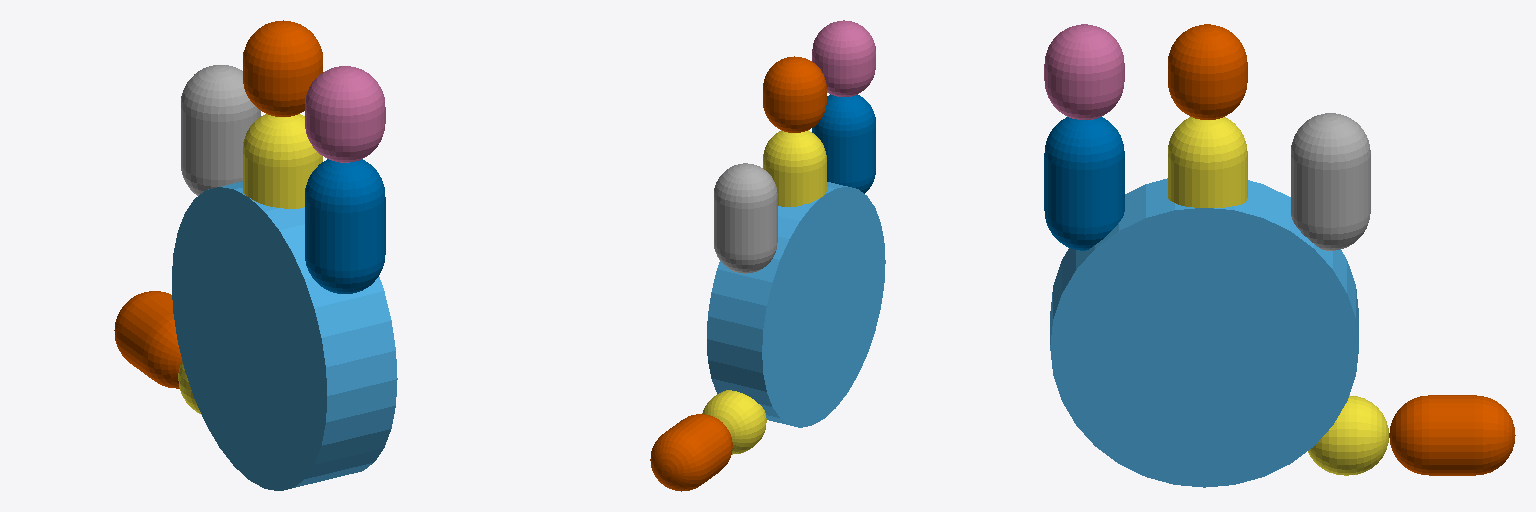
URDF robot description (DexterousHand):
<?xml version="1.0"?>
<robot name="DexterousHand">


    <link name="world"/>
    <joint name="world_to_palm" type="fixed">
        <parent link="world"/>
        <child link="palm"/>
        <origin xyz="0 0 0" rpy="0 0 0"/>
    </joint>
    <link name="palm">
        <inertial>
            <origin xyz="0 0 0.057" rpy="0 0 0"/>
            <mass value="0.30212892864"/>
            <inertia ixx="0.00049080844457568" ixy="0.0" ixz="0.0" iyy="0.00026746366246427523" iyz="0.0" izz="0.00026746366246427523"/>
        </inertial>
        <visual>
            <origin xyz="0 0 0.057" rpy="1.5708 0 1.5708"/>
            <geometry>
                <cylinder radius="0.057" length="0.0296"/>
            </geometry>
            <material name="default"/>
        </visual>
        <collision>
            <origin xyz="0 0 0.057" rpy="1.5708 0 1.5708"/>
            <geometry>
                <cylinder radius="0.057" length="0.0296"/>
            </geometry>
        </collision>
    </link>

    
    <joint name="thumb_joint1" type="revolute">
        <parent link="palm"/>
        <child link="thumb_base"/>
        <origin xyz="0.0029 0.0368 0.0157" rpy="-1.5708 -1.5708 0.0"/>
        <axis xyz="-1 0 0"/>
        <limit lower="-0.349" upper="2.094" effort="1.0" velocity="1.0"/>
    </joint>

    <link name="thumb_base"></link>

    <joint name="thumb_joint2" type="revolute">
        <parent link="thumb_base"/>
        <child link="thumb_proximal"/>
        <origin xyz="0.0 0.0 0.0" rpy="0.0 0.0 0.0"/>
        <axis xyz="0 0 1"/>
        <limit lower="-0.47" upper="2.443" effort="1.0" velocity="1.0"/>
    </joint>

    <link name="thumb_proximal">
        <inertial>
            <origin xyz="0 0 0.01565" rpy="0 0 0"/>
            <mass value="0.021538658803200002"/>
            <inertia ixx="2.9378910096388167e-06" ixy="0.0" ixz="0.0" 
            iyy="2.9378910096388167e-06" iyz="0.0" izz="2.358913912126464e-06"/>
        </inertial>
        <visual>
            <origin xyz="0 0 0.01565" rpy="0 0 0"/>
            <geometry>
                <cylinder radius="0.0148" length="0.0017000000000000001"/>
            </geometry>
            <material name="default"/>
        </visual>
        <visual>
            <origin xyz="0 0 0.0148" rpy="0 0 0"/>
            <geometry>
                <sphere radius="0.0148"/>
            </geometry>
            <material name="default"/>
        </visual>
        <visual>
            <origin xyz="0 0 0.0165" rpy="0 0 0"/>
            <geometry>
                <sphere radius="0.0148"/>
            </geometry>
            <material name="default"/>
        </visual>
        <collision>
            <origin xyz="0 0 0.01565" rpy="0 0 0"/>
            <geometry>
                <cylinder radius="0.0148" length="0.0017000000000000001"/>
            </geometry>
        </collision>
        <collision>
            <origin xyz="0 0 0.0148" rpy="0 0 0"/>
            <geometry>
                <sphere radius="0.0148"/>
            </geometry>
        </collision>
        <collision>
            <origin xyz="0 0 0.0165" rpy="0 0 0"/>
            <geometry>
                <sphere radius="0.0148"/>
            </geometry>
        </collision>
    </link>

    <joint name="thumb_joint3" type="revolute">
        <parent link="thumb_proximal"/>
        <child link="thumb_knuckle"/>
        <origin xyz="0.0 0.0 0.0313" rpy="0.0 0.0 0.0"/>
        <axis xyz="1 0 0"/>
        <limit lower="0.0" upper="0.0" effort="1.0" velocity="1.0"/>
    </joint>

    <link name="thumb_knuckle"></link>

    <joint name="thumb_joint4" type="revolute">
        <parent link="thumb_knuckle"/>
        <child link="thumb_middle"/>
        <origin xyz="0 0 0" rpy="0 0 0"/> 
        <axis xyz="0 1 0"/>
        <limit lower="-1.2" upper="1.9" effort="1.0" velocity="1.0"/>
    </joint>

    <link name="thumb_middle">
        <inertial>
            <origin xyz="0 0 0.0233" rpy="0 0 0"/>
            <mass value="0.032067140582400004"/>
            <inertia ixx="7.5589732685519385e-06" ixy="0.0" ixz="0.0" 
            iyy="7.5589732685519385e-06" iyz="0.0" izz="3.5119932365844485e-06"/>
        </inertial>
        <visual>
            <origin xyz="0 0 0.0233" rpy="0 0 0"/>
            <geometry>
                <cylinder radius="0.0148" length="0.017"/>
            </geometry>
            <material name="default"/>
        </visual>
        <visual>
            <origin xyz="0 0 0.0148" rpy="0 0 0"/>
            <geometry>
                <sphere radius="0.0148"/>
            </geometry>
            <material name="default"/>
        </visual>
        <visual>
            <origin xyz="0 0 0.0318" rpy="0 0 0"/>
            <geometry>
                <sphere radius="0.0148"/>
            </geometry>
            <material name="default"/>
        </visual>
        <collision>
            <origin xyz="0 0 0.0233" rpy="0 0 0"/>
            <geometry>
                <cylinder radius="0.0148" length="0.017"/>
            </geometry>
        </collision>
        <collision>
            <origin xyz="0 0 0.0148" rpy="0 0 0"/>
            <geometry>
                <sphere radius="0.0148"/>
            </geometry>
        </collision>
        <collision>
            <origin xyz="0 0 0.0318" rpy="0 0 0"/>
            <geometry>
                <sphere radius="0.0148"/>
            </geometry>
        </collision>
    </link>

    <joint name="thumb_joint5" type="revolute">
        <parent link="thumb_middle"/>
        <child link="thumb_distal"/>
        <origin xyz="0 0 0.0466" rpy="0 0 0"/> 
        <axis xyz="0 1 0"/>
        <limit lower="0.0" upper="0.0" effort="1.0" velocity="1.0"/>
    </joint>

    <link name="thumb_distal">
    </link>

    
    <joint name="index_joint1" type="revolute">
        <parent link="palm"/>
        <child link="index_proximal"/>
        <origin xyz="0.0 0.0465 0.091" rpy="0.0 0.0 0.0"/>
        <axis xyz="0 1 0"/>
        <limit lower="-0.314" upper="2.23" effort="1.0" velocity="1.0"/>
    </joint>

    <link name="index_proximal">
        <inertial>
            <origin xyz="0 0 0.02655" rpy="0 0 0"/>
            <mass value="0.036540024998400006"/>
            <inertia ixx="1.058665009272394e-05" ixy="0.0" ixz="0.0" 
            iyy="1.058665009272394e-05" iyz="0.0" izz="4.001863537824769e-06"/>
        </inertial>
        <visual>
            <origin xyz="0 0 0.02655" rpy="0 0 0"/>
            <geometry>
                <cylinder radius="0.0148" length="0.0235"/>
            </geometry>
            <material name="default"/>
        </visual>
        <visual>
            <origin xyz="0 0 0.0148" rpy="0 0 0"/>
            <geometry>
                <sphere radius="0.0148"/>
            </geometry>
            <material name="default"/>
        </visual>
        <visual>
            <origin xyz="0 0 0.0383" rpy="0 0 0"/>
            <geometry>
                <sphere radius="0.0148"/>
            </geometry>
            <material name="default"/>
        </visual>
        <collision>
            <origin xyz="0 0 0.02655" rpy="0 0 0"/>
            <geometry>
                <cylinder radius="0.0148" length="0.0235"/>
            </geometry>
        </collision>
        <collision>
            <origin xyz="0 0 0.0148" rpy="0 0 0"/>
            <geometry>
                <sphere radius="0.0148"/>
            </geometry>
        </collision>
        <collision>
            <origin xyz="0 0 0.0383" rpy="0 0 0"/>
            <geometry>
                <sphere radius="0.0148"/>
            </geometry>
        </collision>
    </link>

    <joint name="index_joint2" type="revolute">
        <parent link="index_proximal"/>
        <child link="index_dummy"/>
        <origin xyz="0.0 0.0 0.038" rpy="0.0 0.0 0.0"/>
        <axis xyz="0 1 0"/>
        <limit lower="0.0" upper="0.0" effort="1.0" velocity="1.0"/>
    </joint>

    <link name="index_dummy"></link>

    <joint name="index_joint3" type="revolute">
        <parent link="index_dummy"/>
        <child link="index_middle"/>
        <origin xyz="0 0 0.015100000000000002" rpy="0 0 0"/>
        <axis xyz="0 1 0"/>
        <limit lower="0.0" upper="0.0" effort="1.0" velocity="1.0"/>
    </joint>

    <link name="index_middle">
    </link>

    <joint name="index_joint4" type="revolute">
        <parent link="index_middle"/>
        <child link="index_distal"/>
        <origin xyz="0 0 0" rpy="0 0 0"/> 
        <axis xyz="0 1 0"/>
        <limit lower="0.0" upper="0.0" effort="1.0" velocity="1.0"/>
    </joint>

    <link name="index_distal">
    </link>

    
    <joint name="middle_joint1" type="revolute">
        <parent link="palm"/>
        <child link="middle_proximal"/>
        <origin xyz="0.0 0.0011 0.091" rpy="0.0 0.0 0.0"/>
        <axis xyz="0 1 0"/>
        <limit lower="-0.314" upper="2.23" effort="1.0" velocity="1.0"/>
    </joint>

    <link name="middle_proximal">
        <inertial>
            <origin xyz="0 0 0.02655" rpy="0 0 0"/>
            <mass value="0.036540024998400006"/>
            <inertia ixx="1.058665009272394e-05" ixy="0.0" ixz="0.0" 
            iyy="1.058665009272394e-05" iyz="0.0" izz="4.001863537824769e-06"/>
        </inertial>
        <visual>
            <origin xyz="0 0 0.02655" rpy="0 0 0"/>
            <geometry>
                <cylinder radius="0.0148" length="0.0235"/>
            </geometry>
            <material name="default"/>
        </visual>
        <visual>
            <origin xyz="0 0 0.0148" rpy="0 0 0"/>
            <geometry>
                <sphere radius="0.0148"/>
            </geometry>
            <material name="default"/>
        </visual>
        <visual>
            <origin xyz="0 0 0.0383" rpy="0 0 0"/>
            <geometry>
                <sphere radius="0.0148"/>
            </geometry>
            <material name="default"/>
        </visual>
        <collision>
            <origin xyz="0 0 0.02655" rpy="0 0 0"/>
            <geometry>
                <cylinder radius="0.0148" length="0.0235"/>
            </geometry>
        </collision>
        <collision>
            <origin xyz="0 0 0.0148" rpy="0 0 0"/>
            <geometry>
                <sphere radius="0.0148"/>
            </geometry>
        </collision>
        <collision>
            <origin xyz="0 0 0.0383" rpy="0 0 0"/>
            <geometry>
                <sphere radius="0.0148"/>
            </geometry>
        </collision>
    </link>

    <joint name="middle_joint2" type="revolute">
        <parent link="middle_proximal"/>
        <child link="middle_dummy"/>
        <origin xyz="0.0 0.0 0.038" rpy="0.0 0.0 0.0"/>
        <axis xyz="1 0 0"/>
        <limit lower="-1.047" upper="1.047" effort="1.0" velocity="1.0"/>
    </joint>

    <link name="middle_dummy"></link>

    <joint name="middle_joint3" type="revolute">
        <parent link="middle_dummy"/>
        <child link="middle_middle"/>
        <origin xyz="0 0 0.015100000000000002" rpy="0 0 0"/>
        <axis xyz="0 1 0"/>
        <limit lower="-0.506" upper="1.885" effort="1.0" velocity="1.0"/>
    </joint>

    <link name="middle_middle">
        <inertial>
            <origin xyz="0 0 0.01805" rpy="0 0 0"/>
            <mass value="0.0248417119104"/>
            <inertia ixx="4.058162759109537e-06" ixy="0.0" ixz="0.0" 
            iyy="4.058162759109537e-06" iyz="0.0" izz="2.7206642884270085e-06"/>
        </inertial>
        <visual>
            <origin xyz="0 0 0.01805" rpy="0 0 0"/>
            <geometry>
                <cylinder radius="0.0148" length="0.006499999999999999"/>
            </geometry>
            <material name="default"/>
        </visual>
        <visual>
            <origin xyz="0 0 0.0148" rpy="0 0 0"/>
            <geometry>
                <sphere radius="0.0148"/>
            </geometry>
            <material name="default"/>
        </visual>
        <visual>
            <origin xyz="0 0 0.0213" rpy="0 0 0"/>
            <geometry>
                <sphere radius="0.0148"/>
            </geometry>
            <material name="default"/>
        </visual>
        <collision>
            <origin xyz="0 0 0.01805" rpy="0 0 0"/>
            <geometry>
                <cylinder radius="0.0148" length="0.006499999999999999"/>
            </geometry>
        </collision>
        <collision>
            <origin xyz="0 0 0.0148" rpy="0 0 0"/>
            <geometry>
                <sphere radius="0.0148"/>
            </geometry>
        </collision>
        <collision>
            <origin xyz="0 0 0.0213" rpy="0 0 0"/>
            <geometry>
                <sphere radius="0.0148"/>
            </geometry>
        </collision>
    </link>

    <joint name="middle_joint4" type="revolute">
        <parent link="middle_middle"/>
        <child link="middle_distal"/>
        <origin xyz="0 0 0.0361" rpy="0 0 0"/> 
        <axis xyz="0 1 0"/>
        <limit lower="0.0" upper="0.0" effort="1.0" velocity="1.0"/>
    </joint>

    <link name="middle_distal">
    </link>

    
    <joint name="ring_joint1" type="revolute">
        <parent link="palm"/>
        <child link="ring_proximal"/>
        <origin xyz="0.0 0.0 0.0" rpy="0.0 0.0 0.0"/>
        <axis xyz="1 0 0"/>
        <limit lower="0.0" upper="0.0" effort="1.0" velocity="1.0"/>
    </joint>

    <link name="ring_proximal">
    </link>

    <joint name="ring_joint2" type="revolute">
        <parent link="ring_proximal"/>
        <child link="ring_dummy"/>
        <origin xyz="0.0 0.0 0.0" rpy="0.0 0.0 0.0"/>
        <axis xyz="0 1 0"/>
        <limit lower="0.0" upper="0.0" effort="1.0" velocity="1.0"/>
    </joint>

    <link name="ring_dummy"></link>

    <joint name="ring_joint3" type="revolute">
        <parent link="ring_dummy"/>
        <child link="ring_middle"/>
        <origin xyz="0 0 0" rpy="0 0 0"/>
        <axis xyz="0 1 0"/>
        <limit lower="0.0" upper="0.0" effort="1.0" velocity="1.0"/>
    </joint>

    <link name="ring_middle">
    </link>

    <joint name="ring_joint4" type="revolute">
        <parent link="ring_middle"/>
        <child link="ring_distal"/>
        <origin xyz="0 0 0" rpy="0 0 0"/> 
        <axis xyz="0 1 0"/>
        <limit lower="0.0" upper="0.0" effort="1.0" velocity="1.0"/>
    </joint>

    <link name="ring_distal">
    </link>

    
    <joint name="little_joint0" type="revolute">
        <parent link="palm"/>
        <child link="little_base"/>
        <origin xyz="0.0 0.0 0.0" rpy="0.0 0.0 0.0"/>
        <axis xyz="0 1 0"/>
        <limit lower="0.0" upper="0.0" effort="1.0" velocity="1.0"/>
    </joint>

    <link name="little_base"></link>

    <joint name="little_joint1" type="revolute">
        <parent link="little_base"/>
        <child link="little_proximal"/>
        <origin xyz="0.0 -0.0443 0.091" rpy="-0.0 -0.0 -0.0"/>
        <axis xyz="0 1 0"/>
        <limit lower="-0.314" upper="2.23" effort="1.0" velocity="1.0"/>
    </joint>

    <link name="little_proximal">
        <inertial>
            <origin xyz="0 0 0.02655" rpy="0 0 0"/>
            <mass value="0.036540024998400006"/>
            <inertia ixx="1.058665009272394e-05" ixy="0.0" ixz="0.0" 
            iyy="1.058665009272394e-05" iyz="0.0" izz="4.001863537824769e-06"/>
        </inertial>
        <visual>
            <origin xyz="0 0 0.02655" rpy="0 0 0"/>
            <geometry>
                <cylinder radius="0.0148" length="0.0235"/>
            </geometry>
            <material name="default"/>
        </visual>
        <visual>
            <origin xyz="0 0 0.0148" rpy="0 0 0"/>
            <geometry>
                <sphere radius="0.0148"/>
            </geometry>
            <material name="default"/>
        </visual>
        <visual>
            <origin xyz="0 0 0.0383" rpy="0 0 0"/>
            <geometry>
                <sphere radius="0.0148"/>
            </geometry>
            <material name="default"/>
        </visual>
        <collision>
            <origin xyz="0 0 0.02655" rpy="0 0 0"/>
            <geometry>
                <cylinder radius="0.0148" length="0.0235"/>
            </geometry>
        </collision>
        <collision>
            <origin xyz="0 0 0.0148" rpy="0 0 0"/>
            <geometry>
                <sphere radius="0.0148"/>
            </geometry>
        </collision>
        <collision>
            <origin xyz="0 0 0.0383" rpy="0 0 0"/>
            <geometry>
                <sphere radius="0.0148"/>
            </geometry>
        </collision>
    </link>

    <joint name="little_joint2" type="revolute">
        <parent link="little_proximal"/>
        <child link="little_dummy"/>
        <origin xyz="0.0 0.0 0.038" rpy="0.0 0.0 0.0"/>
        <axis xyz="1 0 0"/>
        <limit lower="-1.047" upper="1.047" effort="1.0" velocity="1.0"/>
    </joint>

    <link name="little_dummy"></link>

    <joint name="little_joint3" type="revolute">
        <parent link="little_dummy"/>
        <child link="little_middle"/>
        <origin xyz="0 0 0.015100000000000002" rpy="0 0 0"/>
        <axis xyz="0 1 0"/>
        <limit lower="-0.506" upper="1.885" effort="1.0" velocity="1.0"/>
    </joint>

    <link name="little_middle">
        <inertial>
            <origin xyz="0 0 0.01805" rpy="0 0 0"/>
            <mass value="0.0248417119104"/>
            <inertia ixx="4.058162759109537e-06" ixy="0.0" ixz="0.0" 
            iyy="4.058162759109537e-06" iyz="0.0" izz="2.7206642884270085e-06"/>
        </inertial>
        <visual>
            <origin xyz="0 0 0.01805" rpy="0 0 0"/>
            <geometry>
                <cylinder radius="0.0148" length="0.006499999999999999"/>
            </geometry>
            <material name="default"/>
        </visual>
        <visual>
            <origin xyz="0 0 0.0148" rpy="0 0 0"/>
            <geometry>
                <sphere radius="0.0148"/>
            </geometry>
            <material name="default"/>
        </visual>
        <visual>
            <origin xyz="0 0 0.0213" rpy="0 0 0"/>
            <geometry>
                <sphere radius="0.0148"/>
            </geometry>
            <material name="default"/>
        </visual>
        <collision>
            <origin xyz="0 0 0.01805" rpy="0 0 0"/>
            <geometry>
                <cylinder radius="0.0148" length="0.006499999999999999"/>
            </geometry>
        </collision>
        <collision>
            <origin xyz="0 0 0.0148" rpy="0 0 0"/>
            <geometry>
                <sphere radius="0.0148"/>
            </geometry>
        </collision>
        <collision>
            <origin xyz="0 0 0.0213" rpy="0 0 0"/>
            <geometry>
                <sphere radius="0.0148"/>
            </geometry>
        </collision>
    </link>

    <joint name="little_joint4" type="revolute">
        <parent link="little_middle"/>
        <child link="little_distal"/>
        <origin xyz="0 0 0.0361" rpy="0 0 0"/>
        <axis xyz="0 1 0"/>
        <limit lower="0.0" upper="0.0" effort="1.0" velocity="1.0"/>
    </joint>

    <link name="little_distal">
    </link>

</robot>

--- Facts derived from the render (not from the file) ---
Views: 3 orthographic renders of the robot side by side, from view 1: azimuth 30°, elevation 25°; view 2: azimuth 150°, elevation 25°; view 3: azimuth 270°, elevation 25°.
Model DexterousHand with 24 links and 23 joints (22 revolute, 1 fixed), rooted at world, posed every joint at zero.
Links seen in each view (by area): view 1: palm, little_proximal, index_proximal, little_middle, middle_middle, middle_proximal, thumb_middle; view 2: palm, index_proximal, thumb_middle, little_proximal, middle_middle, middle_proximal, little_middle, thumb_proximal; view 3: palm, index_proximal, little_proximal, thumb_middle, middle_proximal, little_middle, middle_middle, thumb_proximal.
Boxes of the visible links, x1,y1,x2,y2 form: palm: (172,181,397,490); little_proximal: (305,159,385,293); index_proximal: (181,65,260,195); little_middle: (305,66,385,162); middle_middle: (243,20,322,116); middle_proximal: (243,114,322,208); thumb_middle: (114,291,181,388); palm: (707,182,885,427); index_proximal: (714,163,777,273); thumb_middle: (650,414,732,491); little_proximal: (812,94,875,193); middle_middle: (763,56,826,132); middle_proximal: (763,130,826,206); little_middle: (812,20,875,96); thumb_proximal: (702,390,766,454); palm: (1050,178,1358,487); index_proximal: (1291,113,1370,250); little_proximal: (1044,117,1124,250); thumb_middle: (1389,395,1515,475); middle_proximal: (1168,117,1247,207); little_middle: (1044,24,1124,119); middle_middle: (1168,24,1247,119); thumb_proximal: (1308,395,1388,475).
Bounding box of the posed robot: 0.0325 × 0.1738 × 0.1802 m (x, y, z).
Geometry: primitives only (box / cylinder / sphere), no mesh files.
